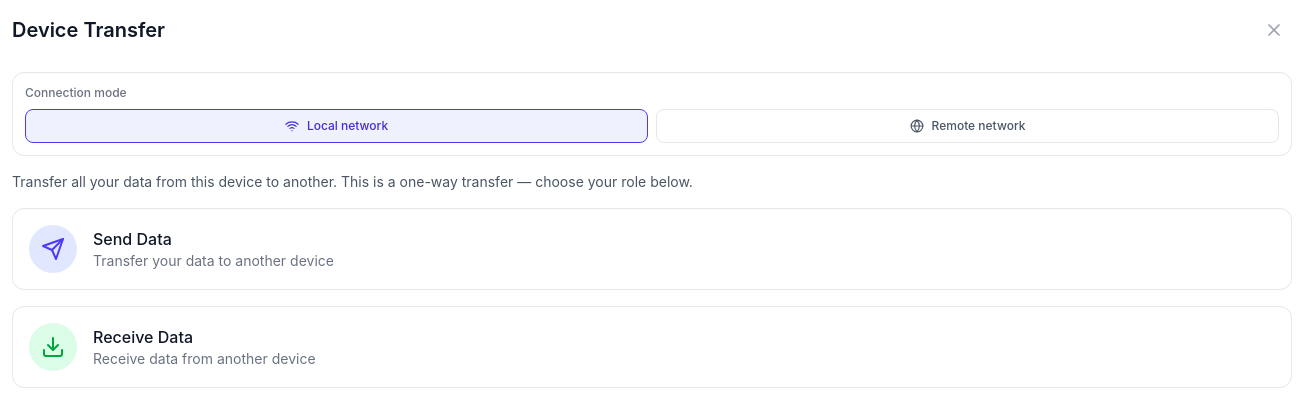
Scenario: DeviceTransferFlow › Receiver flow › can go back from import mode choice to role selection
What coordinates should you click on to do the following:
click the text "Receive Data"
I would click on:
 (143, 337)
Its box is x1=93 y1=327 x2=193 y2=347.
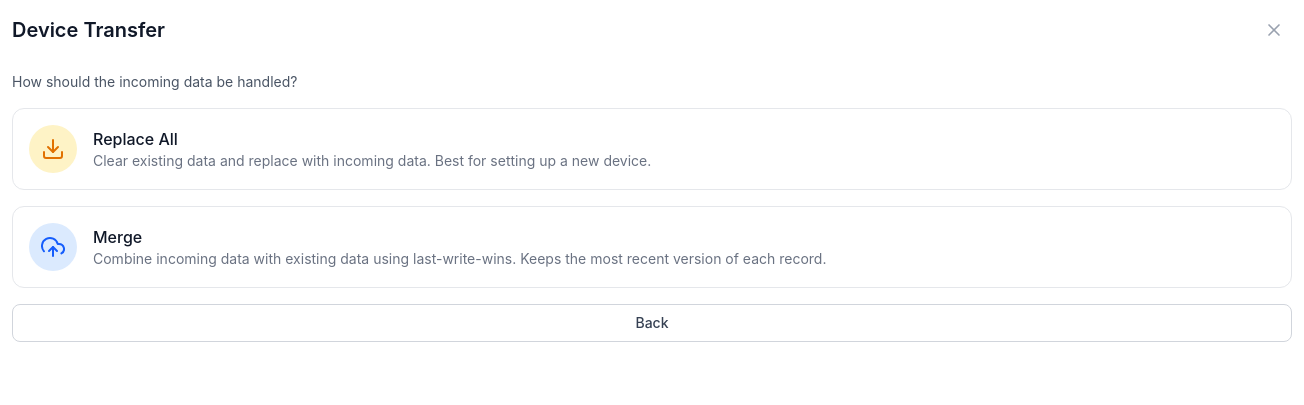
Check: the text "Replace All" is shown, box x1=93 y1=129 x2=178 y2=149
What coordinates should you click on to do the following:
click the button "Back"
I would click on:
 (652, 323)
Its box is x1=12 y1=304 x2=1292 y2=342.
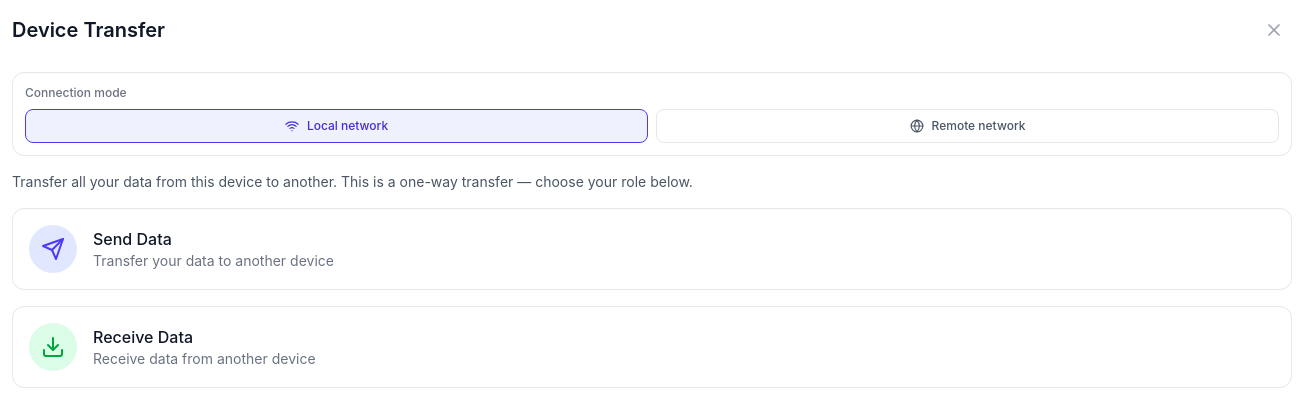
Check: the text "Send Data" is shown, box x1=93 y1=229 x2=172 y2=249
Check: the text "Receive Data" is shown, box x1=93 y1=327 x2=193 y2=347
